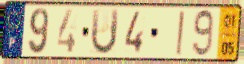4: (123, 10, 146, 56), (56, 8, 77, 56)
9: (190, 8, 216, 59), (26, 7, 53, 56)
I: (175, 9, 186, 57)
U: (89, 8, 121, 57)
